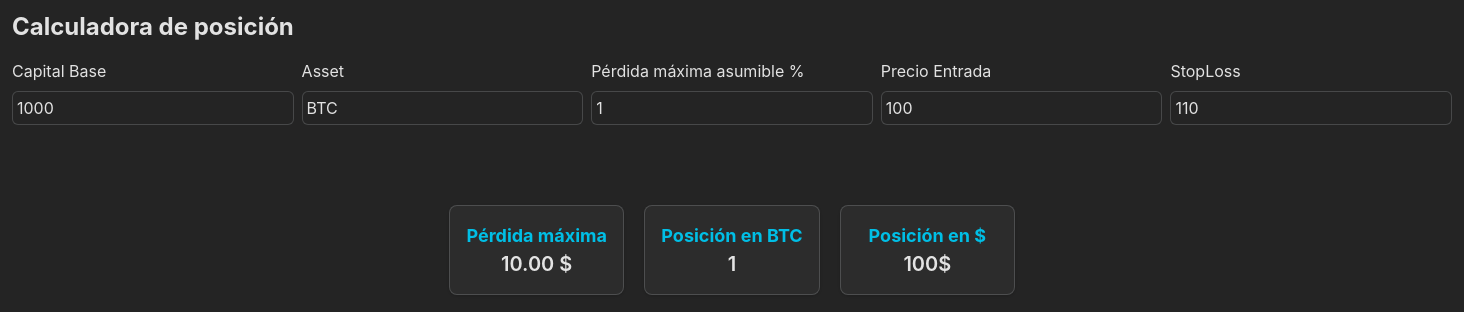
Test: PositionCalculator › displays inputs and calculates correctly
Replace the text in the field labelled "Capital Base" with "2000" at (153, 108), box [12,91,294,125]
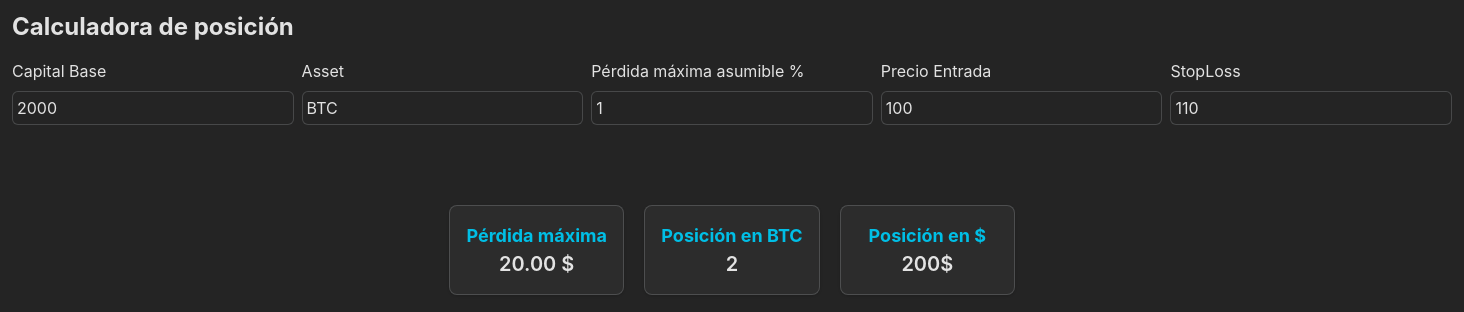
Replace the text in the number field labelled "Pérdida máxima asumible %" with "2" at (732, 108), box [591,91,873,125]
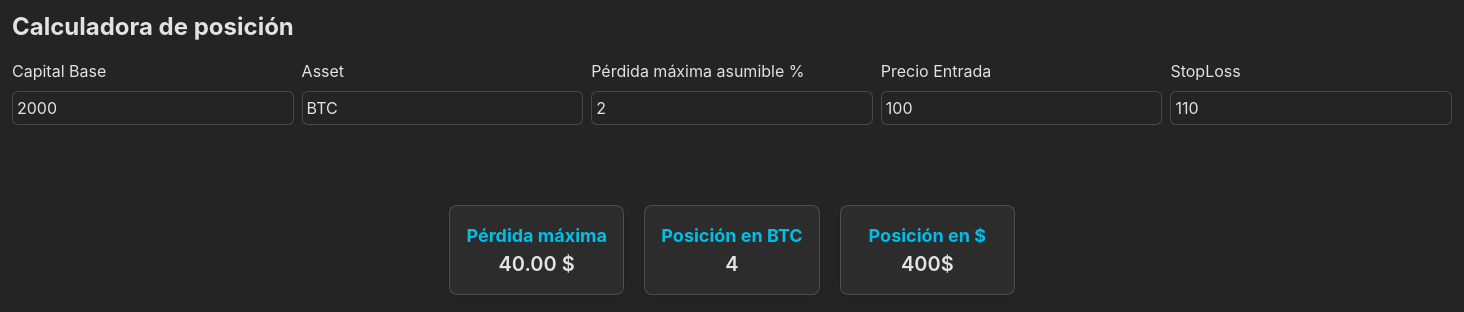
Replace the text in the number field labelled "Precio Entrada" with "50" at (1022, 108), box [881,91,1162,125]
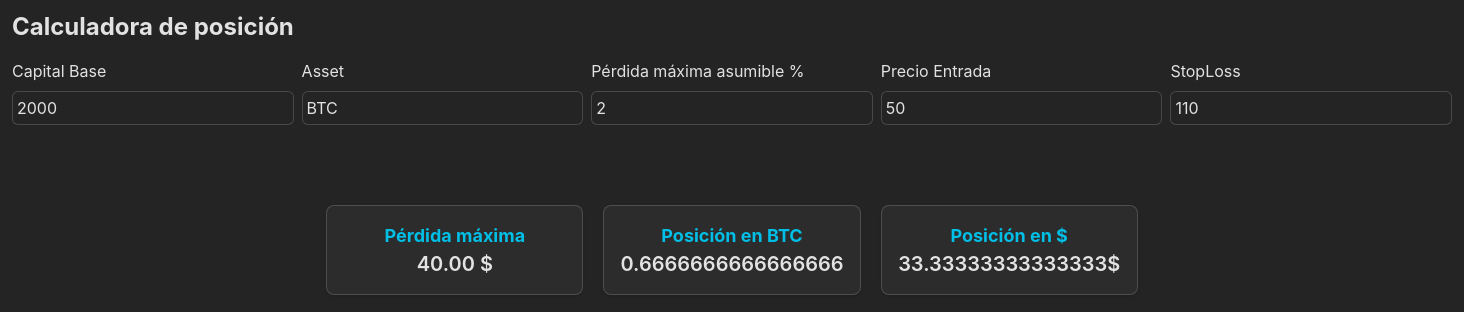
Replace the text in the number field labelled "StopLoss" with "40" at (1311, 108), box [1170,91,1452,125]
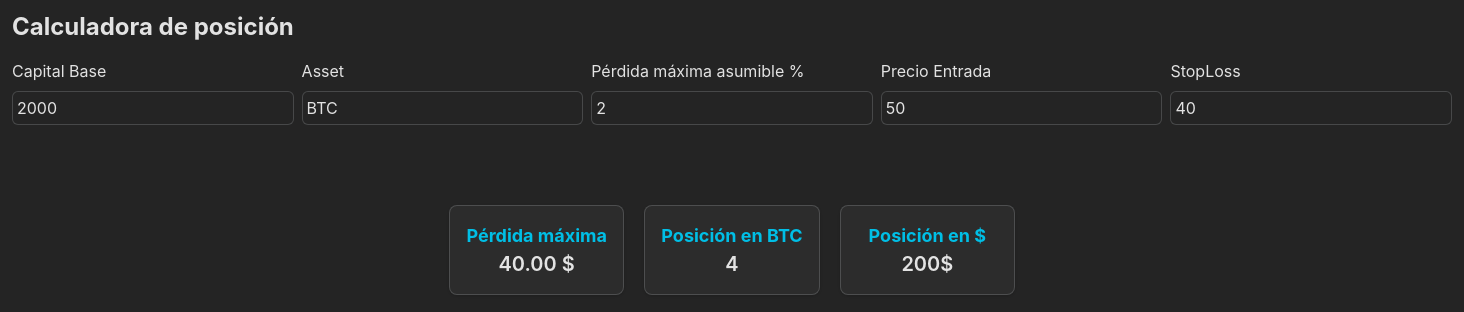
expect the text "40.00 $" is shown: met, box [498,252,575,276]
expect the text "4" is shown: met, box [725,252,739,276]
expect the text "200$" is shown: met, box [901,252,953,276]
